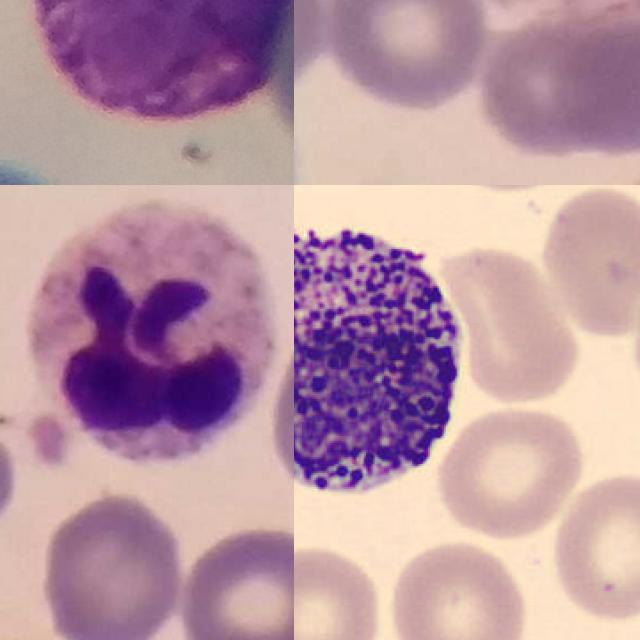Basophil: (294, 201, 476, 508), (37, 0, 294, 121)
Neutrophil: (27, 208, 275, 460)
RBC: (437, 240, 583, 406), (434, 402, 590, 540), (536, 185, 640, 342), (543, 467, 640, 628), (383, 536, 531, 640), (294, 540, 387, 640)
